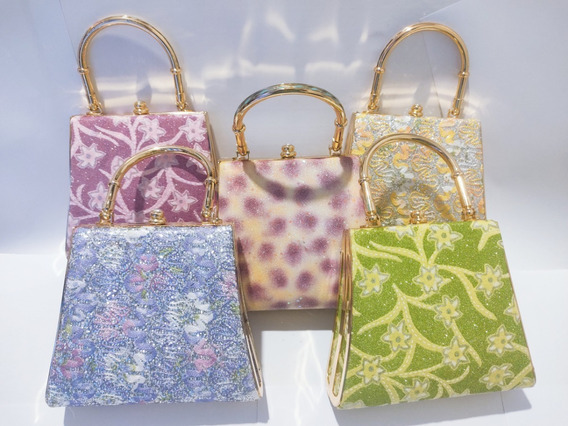cartera: (44, 144, 266, 407), (328, 135, 538, 409), (217, 81, 381, 316), (66, 13, 223, 237), (345, 24, 498, 226)
